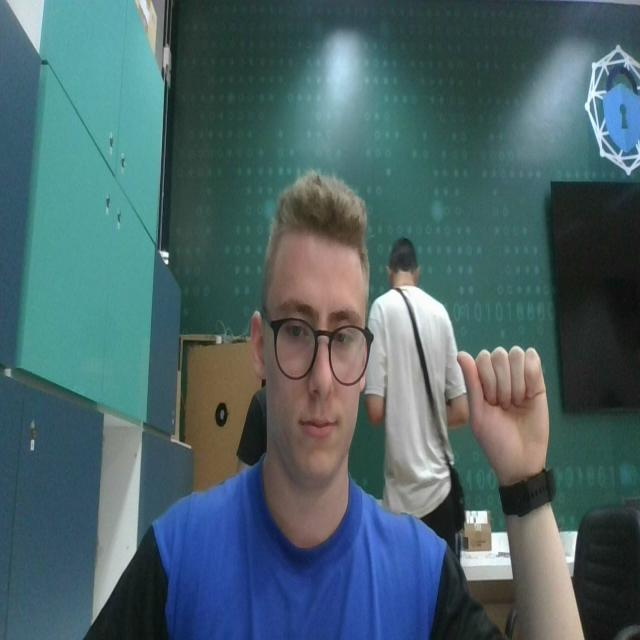A: (458, 347, 554, 469)
